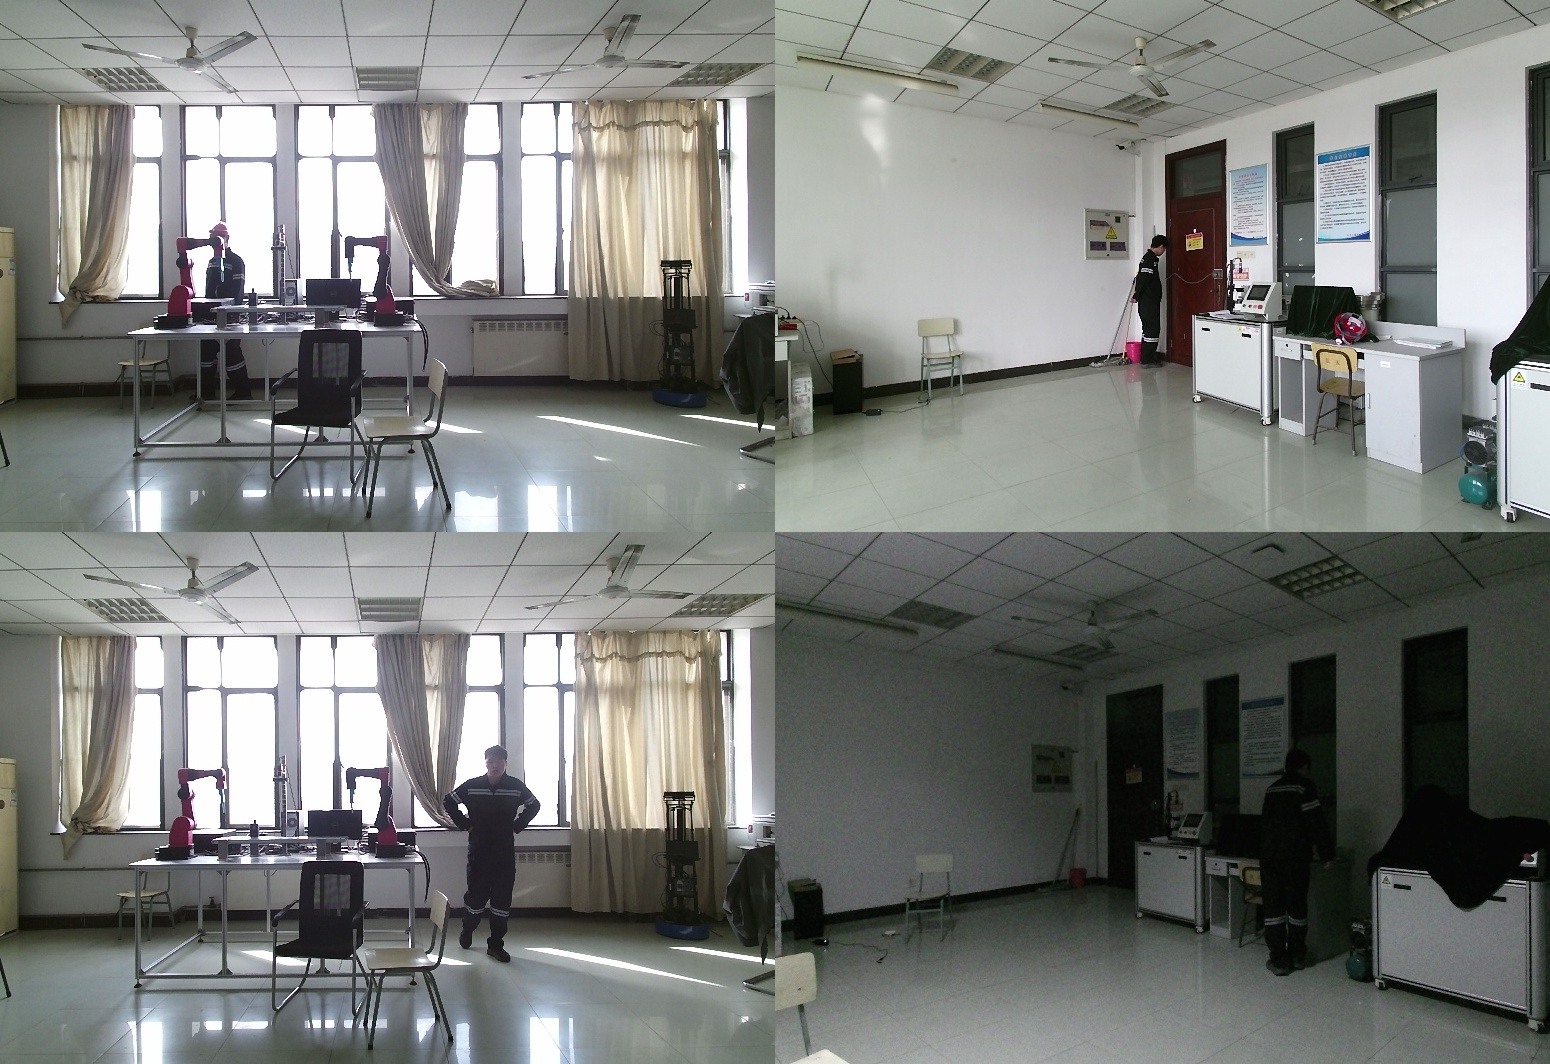person: (446, 750, 540, 967), (1259, 748, 1341, 974), (190, 224, 255, 403), (1132, 236, 1173, 374)
